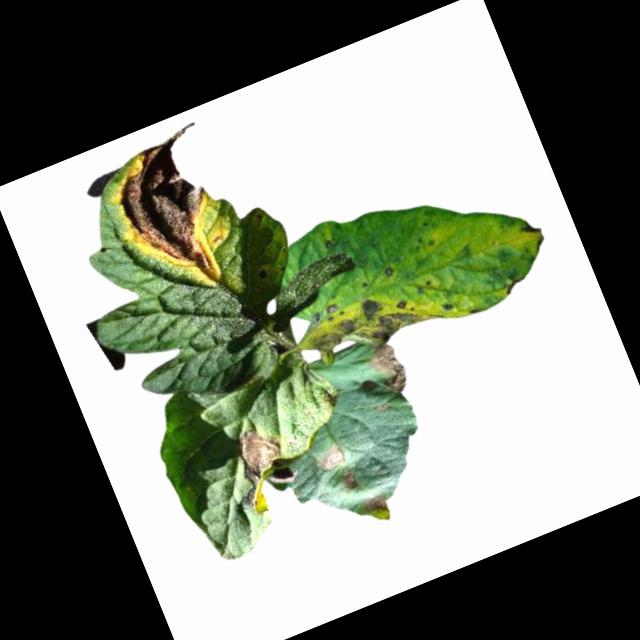Early_blight: (97, 119, 253, 300), (290, 264, 441, 369), (222, 418, 302, 517), (367, 340, 411, 398), (518, 216, 548, 250), (361, 492, 389, 520), (321, 445, 349, 472), (339, 467, 360, 491), (371, 399, 393, 418)
